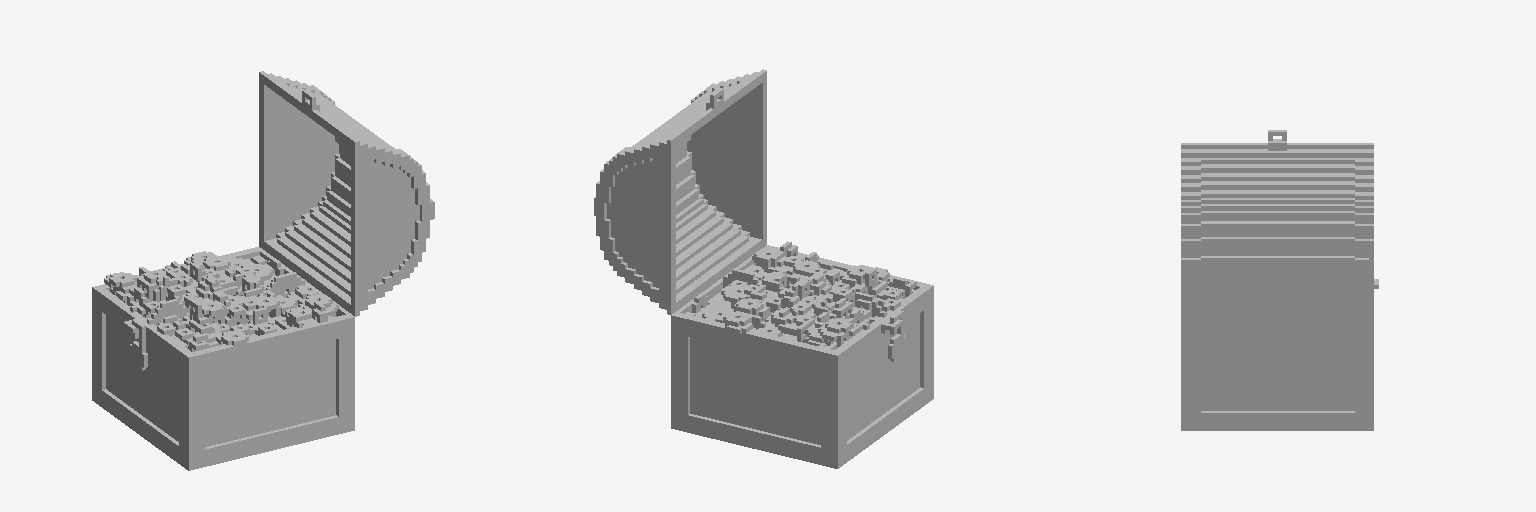
File: chest.obj
The picture shows the model from 3 angles: view 1: azimuth 30°, elevation 25°; view 2: azimuth 150°, elevation 25°; view 3: azimuth 270°, elevation 25°; orthographic projection.
Visible parts, largest first — view 1: chest; view 2: chest; view 3: chest.
Boxes of the visible parts, <box> form: chest: <box>92,71,434,470</box>; chest: <box>594,69,933,468</box>; chest: <box>1181,130,1378,430</box>.
Bounding box in the file's own units: 62 × 69 × 41.